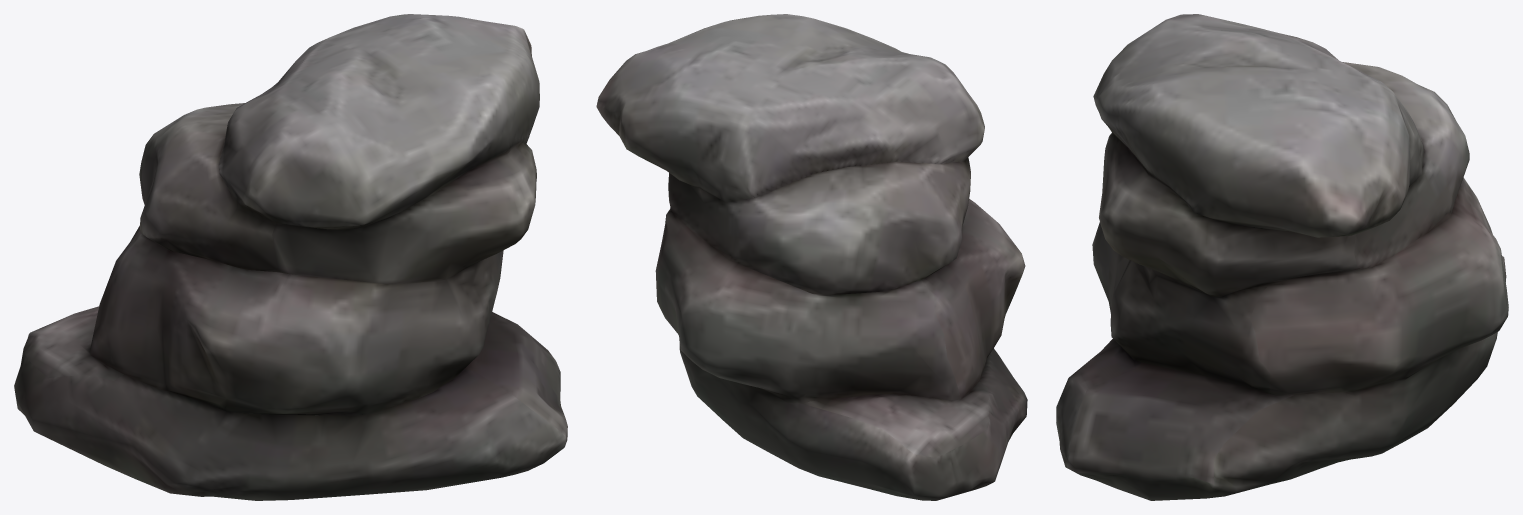
The model's file is stylized-rock-04.glb.
3 views of the same model, side by side, from view 1: azimuth 30°, elevation 25°; view 2: azimuth 150°, elevation 25°; view 3: azimuth 270°, elevation 25° (orthographic). The views are drawn at different scales.
Parts seen in each view (by area): view 1: Mid_4; view 2: Mid_4; view 3: Mid_4.
Part boxes in pixels (x1,y1,x2,y2): Mid_4: (14, 14, 567, 500); Mid_4: (596, 14, 1027, 500); Mid_4: (1056, 14, 1508, 500).
Bounding box in the file's own units: 4.21 × 3.3 × 3.37.
1 material, 1 textured.
